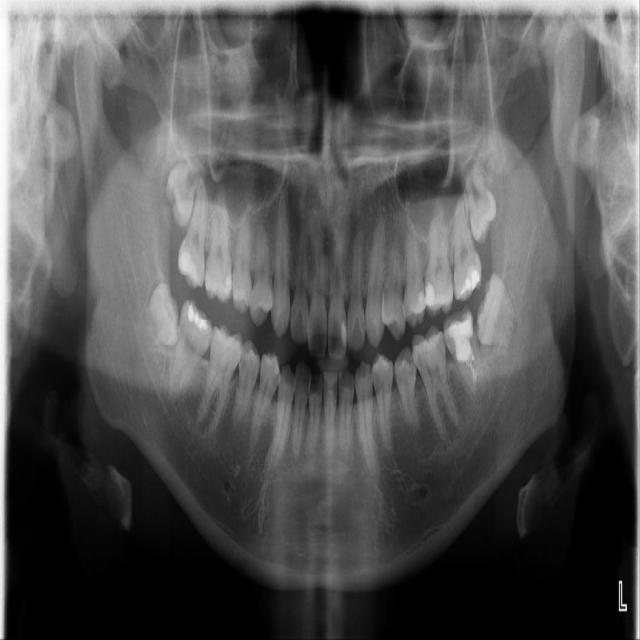Filling: (443, 302, 477, 356), (454, 265, 485, 302), (183, 303, 216, 333), (424, 280, 451, 310), (402, 287, 425, 315)
